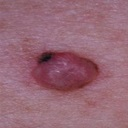Melanoma: (33, 52, 102, 89)
